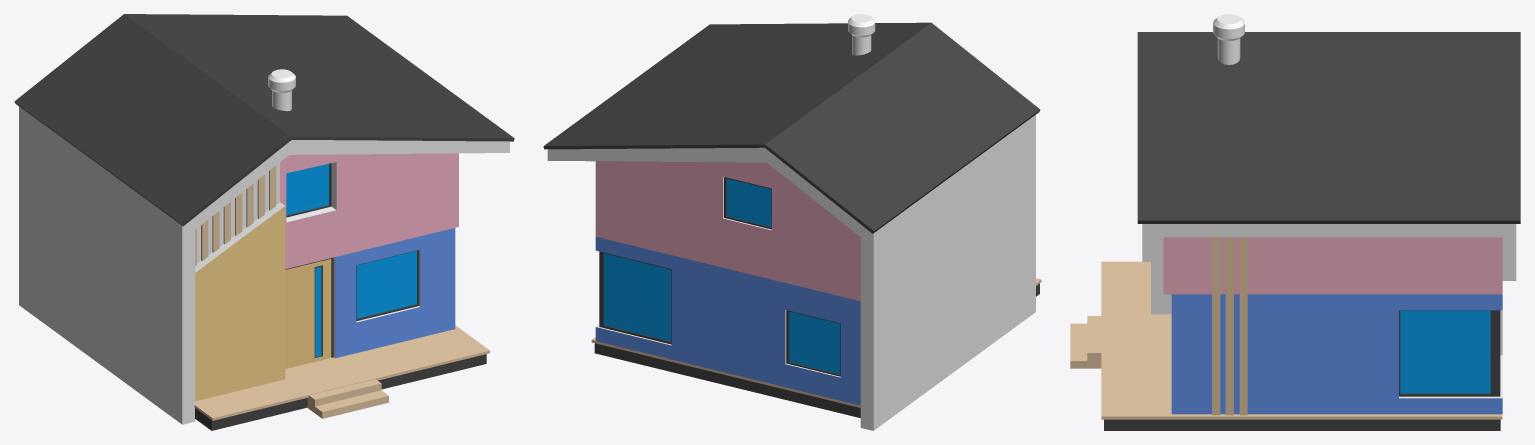
File: casa_kj.glb
The picture shows the model from 3 angles, left to right: view 1: azimuth 30°, elevation 25°; view 2: azimuth 150°, elevation 25°; view 3: azimuth 270°, elevation 25°; orthographic projection. The views are drawn at different scales.
Parts seen in each view (by area): view 1: Roof2, Roof, Walls, Floor, Doors, Window1_1, FloorBase, SidePanels1, Window1_2, Stairs, Chimney; view 2: Roof2, Walls, Roof, Window1_3, Window1_5, FloorBase, Window1_6, Chimney, Floor; view 3: Roof2, Walls, Floor, Window1_4, Roof, SidePanels2, FloorBase, Stairs, Chimney, Window1_3.
Boxes of the visible parts, x1=… form: Roof2: x1=14, y1=14, x2=514, y2=226; Roof: x1=19, y1=106, x2=509, y2=424; Walls: x1=195, y1=153, x2=458, y2=401; Floor: x1=194, y1=325, x2=489, y2=420; Doors: x1=285, y1=259, x2=331, y2=368; Window1_1: x1=356, y1=250, x2=419, y2=321; FloorBase: x1=195, y1=354, x2=486, y2=430; SidePanels1: x1=195, y1=166, x2=276, y2=265; Window1_2: x1=286, y1=163, x2=331, y2=217; Stairs: x1=307, y1=379, x2=388, y2=418; Chimney: x1=268, y1=69, x2=295, y2=111; Roof2: x1=543, y1=22, x2=1040, y2=233; Walls: x1=595, y1=161, x2=860, y2=405; Roof: x1=547, y1=115, x2=1035, y2=430; Window1_3: x1=599, y1=251, x2=671, y2=344; Window1_5: x1=786, y1=310, x2=840, y2=376; FloorBase: x1=594, y1=283, x2=1039, y2=417; Window1_6: x1=724, y1=177, x2=771, y2=229; Chimney: x1=848, y1=14, x2=875, y2=55; Floor: x1=591, y1=278, x2=1041, y2=407; Roof2: x1=1137, y1=32, x2=1520, y2=223; Walls: x1=1151, y1=237, x2=1502, y2=414; Floor: x1=1101, y1=261, x2=1502, y2=419; Window1_4: x1=1399, y1=310, x2=1495, y2=396; Roof: x1=1142, y1=224, x2=1516, y2=280; SidePanels2: x1=1212, y1=237, x2=1247, y2=415; FloorBase: x1=1104, y1=419, x2=1500, y2=430; Stairs: x1=1070, y1=316, x2=1101, y2=368; Chimney: x1=1213, y1=14, x2=1244, y2=64; Window1_3: x1=1496, y1=310, x2=1500, y2=396.
Size of the model in its own units: 7.64 by 6.36 by 7.83.
